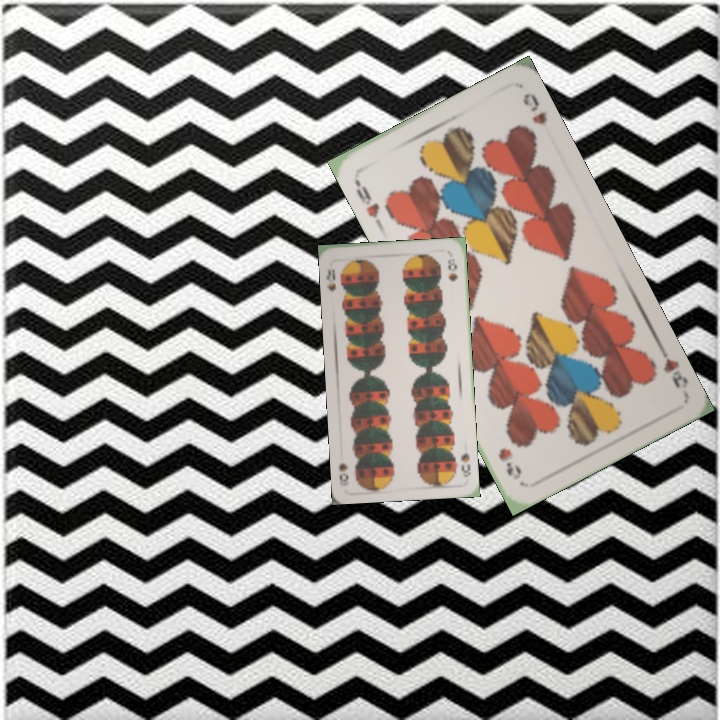H9: (350, 175, 384, 229), (655, 341, 691, 391)
S8: (457, 448, 473, 480), (322, 265, 338, 294)
